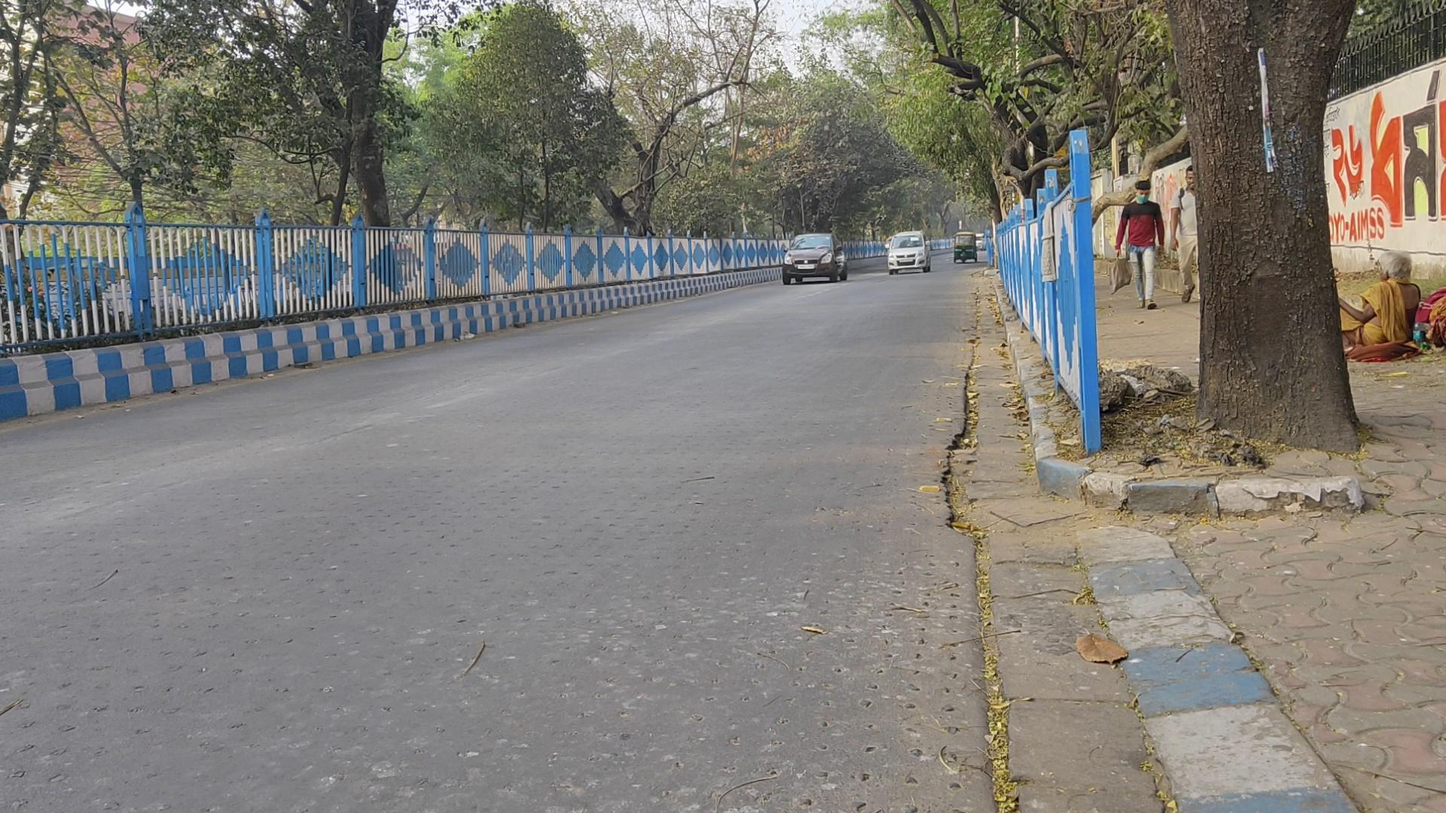Auto: (953, 230, 978, 264)
car: (782, 232, 849, 286), (885, 230, 932, 275)
